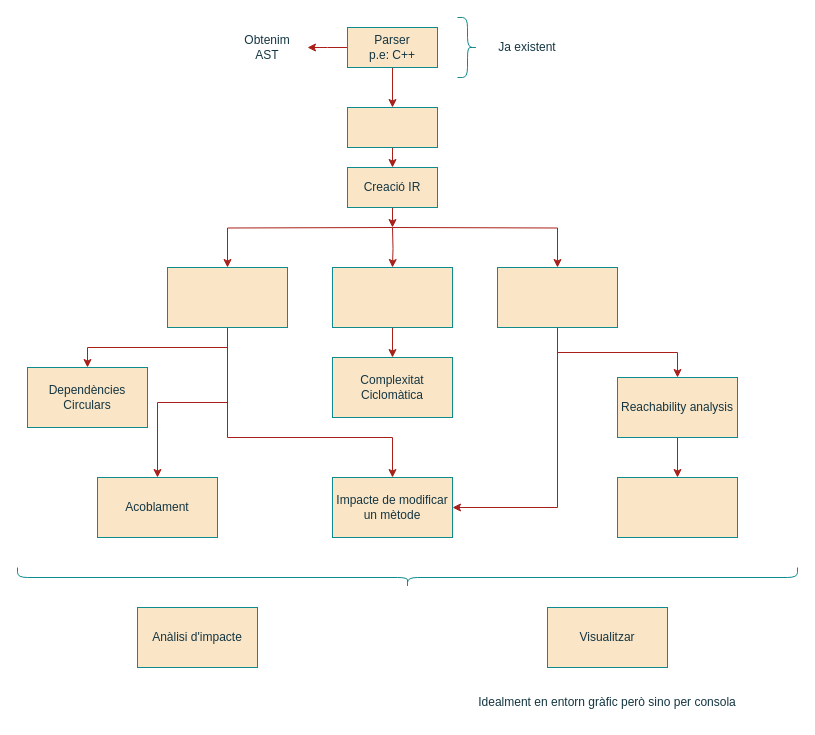
Some shapes in this 815 by 735 pixel diagram are drawn without their labels. Here are the shapes that lost their labels. From the top down, the centre of each, then its label:
(392,127): Mòdul Parser
(227,297): Graf de dependències
(392,297): Control Flow Graph (CFG)
(557,297): Graf de crides
(677,507): Codi Inaccessible
